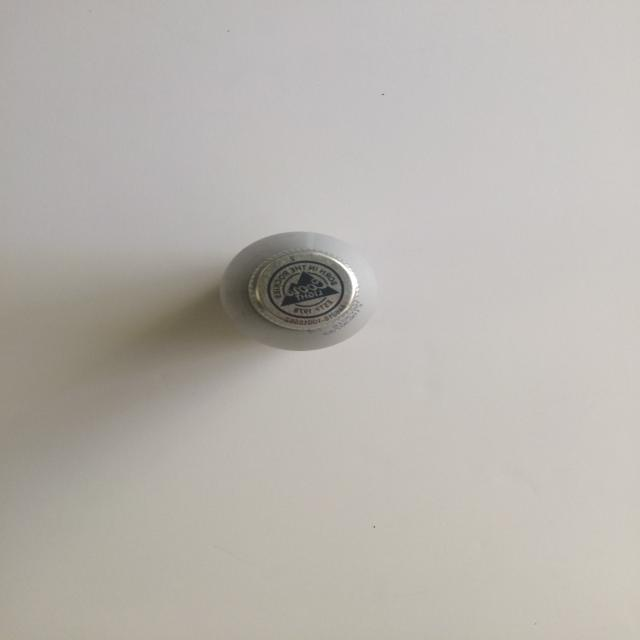metal: (219, 230, 379, 352)
